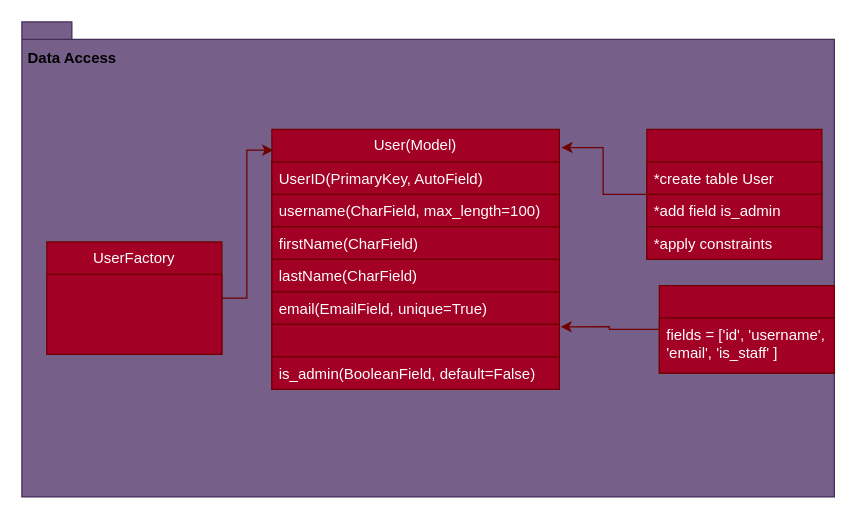
This 856x519 diagram has some shape labels left out. The box of each missing label's shape, as (x1, y1, x2, y2) in pixels:
create_user(username, password, email, first_name, last_name, commit=True): (46, 273, 222, 354)
Migrations_Users: (646, 128, 822, 259)
password(CharField): (271, 323, 559, 357)
UserSerializer: (658, 284, 834, 373)
